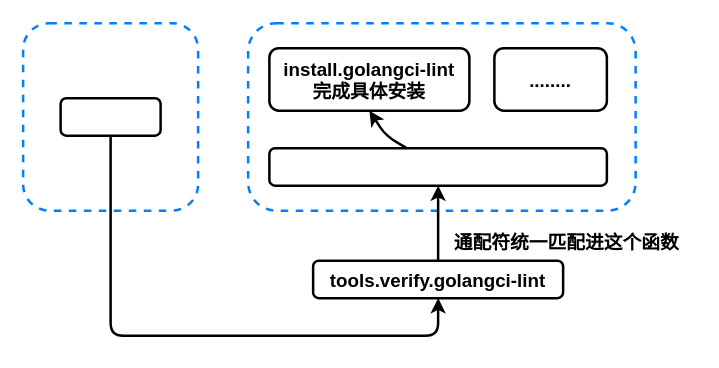
This 719x368 diagram has some shape labels left out. The centre of each missing label's shape, as x and y in pixels:
go.lint: the point at 110,116
tools.verify.% 检查: the point at 438,166
